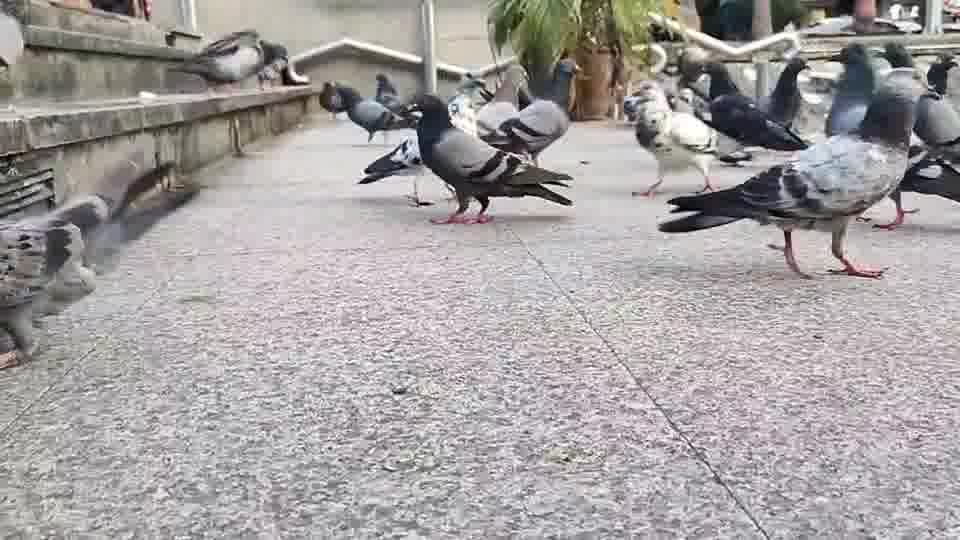Pigeon: (655, 46, 923, 281), (399, 91, 574, 224), (0, 192, 110, 369), (622, 79, 725, 198), (692, 59, 810, 162), (475, 56, 582, 166), (354, 136, 453, 207), (318, 78, 413, 142), (167, 29, 266, 90), (257, 39, 310, 88)
